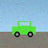vehicle: (12, 21, 35, 37)
